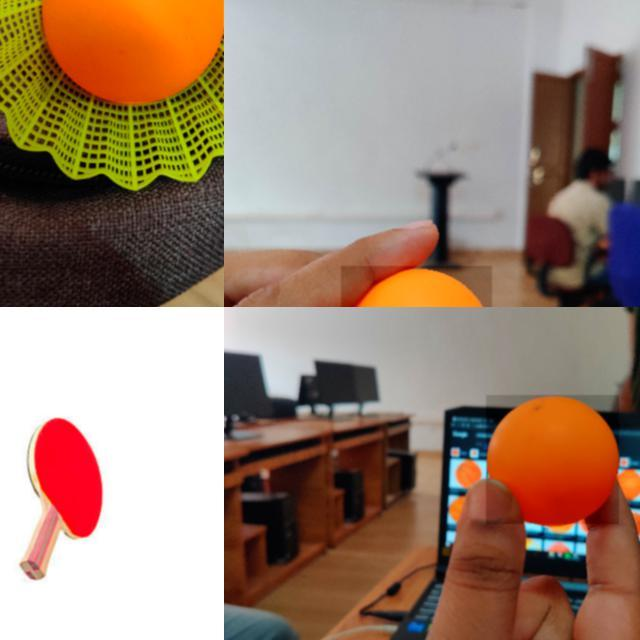ping-pong-ball: (39, 0, 223, 103), (486, 394, 620, 526), (341, 266, 494, 306)
